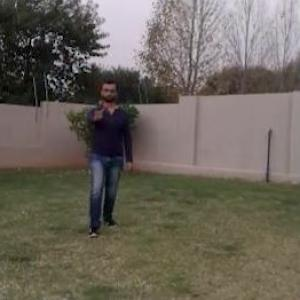takeoff-hand: (84, 100, 106, 128)
